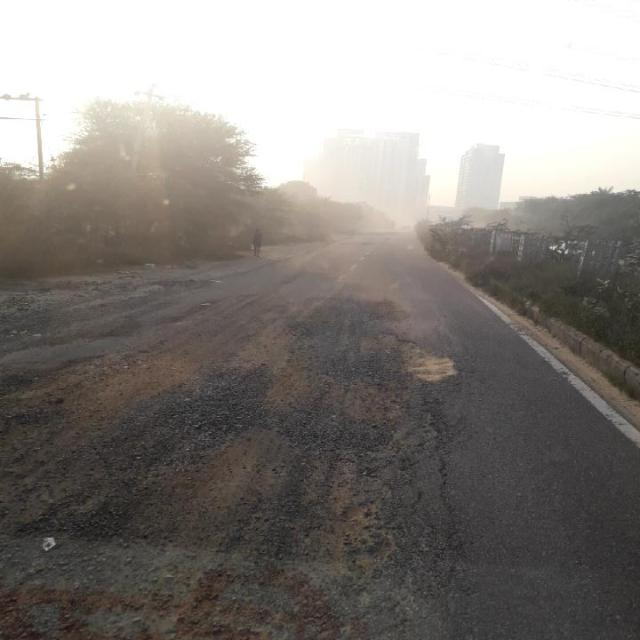Surface Erosion: (10, 270, 633, 618)
